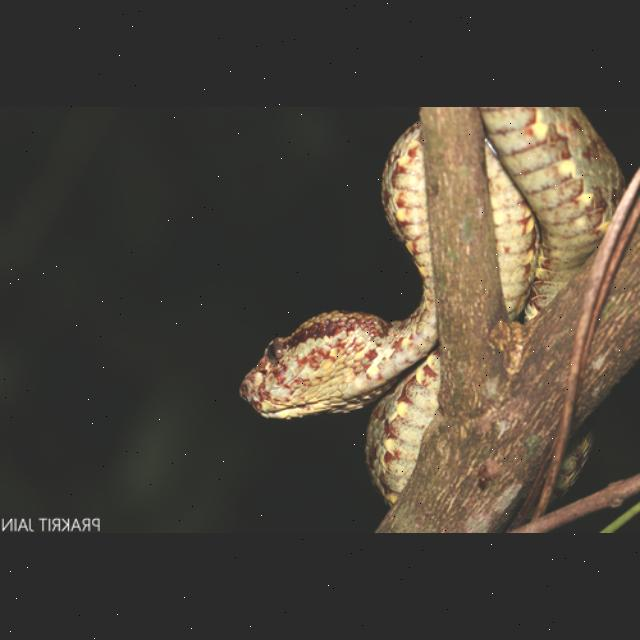snake: (240, 107, 624, 503)
